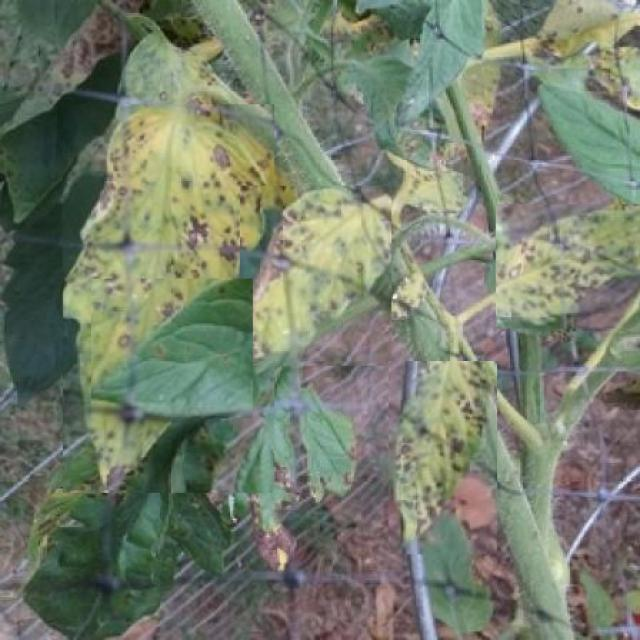Septoria: (64, 104, 275, 493), (240, 186, 392, 366), (90, 280, 253, 420), (389, 361, 497, 555), (495, 204, 640, 328)
